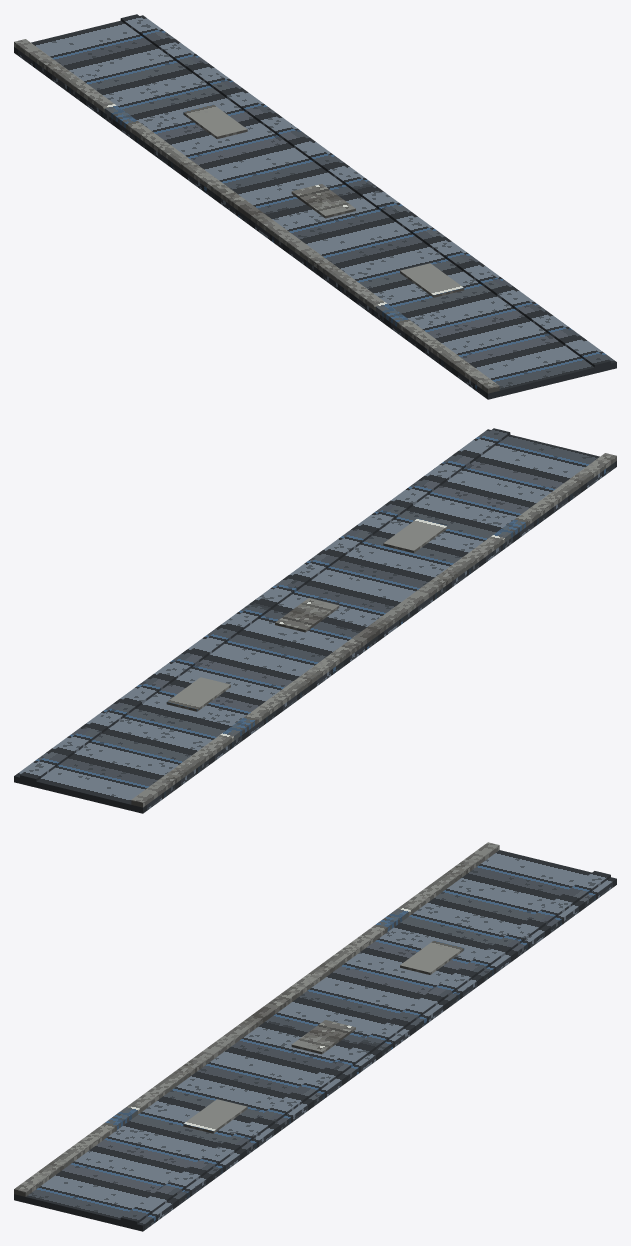
File: yk_dock_edge.glb
3 renders of one model, top to bottom at view 1: azimuth 30°, elevation 25°; view 2: azimuth 150°, elevation 25°; view 3: azimuth 330°, elevation 25°, orthographic.
Visible parts, largest first — view 1: dock_nosing, dock_band, dock_lip, board_mark_0, board_mark_2, board_mark_1; view 2: dock_nosing, dock_band, dock_lip, board_mark_2, board_mark_0, board_mark_1; view 3: dock_nosing, dock_band, dock_lip, board_mark_1, board_mark_0, board_mark_2.
Part boxes in pixels (x1,y1,x2,y2): dock_nosing: (14,15,616,399); dock_band: (120,14,610,367); dock_lip: (14,39,499,393); board_mark_0: (400,263,464,297); board_mark_2: (183,104,247,138); board_mark_1: (291,184,355,218); dock_nosing: (14,429,616,813); dock_band: (20,428,510,781); dock_lip: (131,453,616,807); board_mark_2: (166,677,230,711); board_mark_0: (383,518,447,552); board_mark_1: (275,598,339,632); dock_nosing: (14,850,616,1231); dock_band: (120,871,610,1223); dock_lip: (14,842,499,1196); board_mark_1: (291,1020,355,1054); board_mark_0: (183,1099,247,1133); board_mark_2: (400,940,464,974).
Size of the model in its own units: 1.1 by 0.09 by 7.
2 materials, 2 textured.
